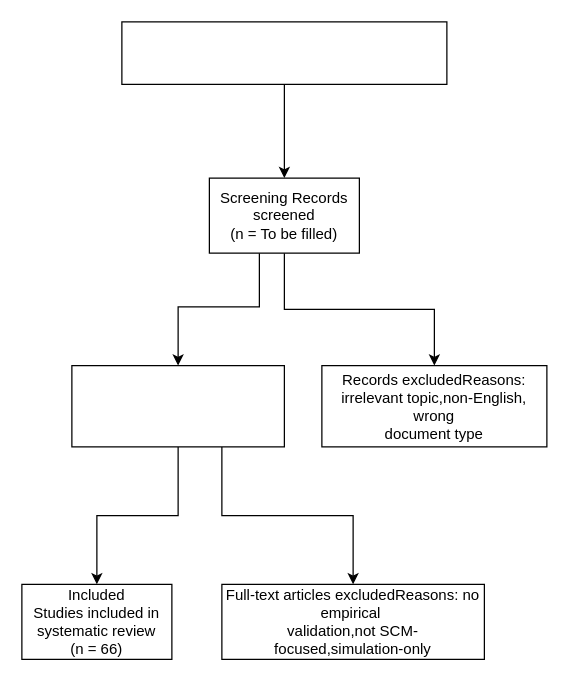
Image size: 569x681. Some labels were removed from this diagram. The shapes that lost their labels are listed below. From the top down, each one's centre as x and y in pixels, then its label:
At [284,52]: "IdentificationRecords identified from Scopus (n= To be filled)".
At [177,405]: "EligibilityFull-text articles assessed for eligibility (n = To be filled)".
